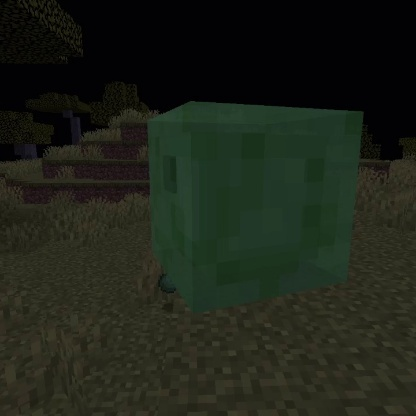slime: (143, 95, 367, 318)
